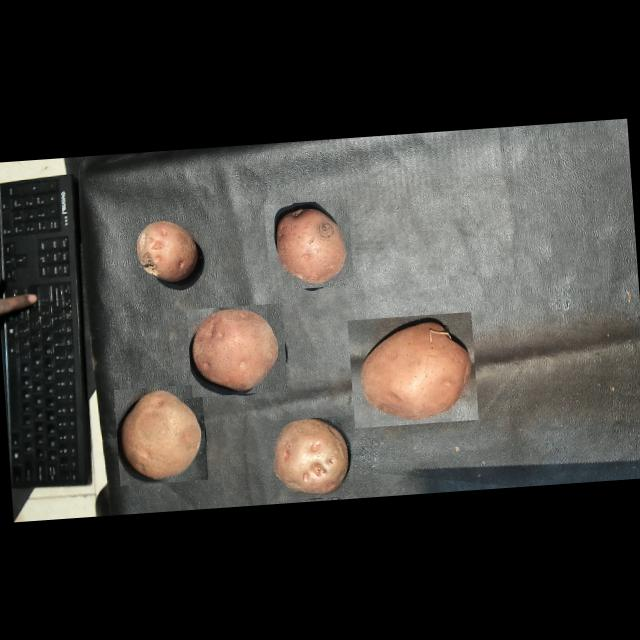Damaged potato: (130, 213, 204, 290)
Diseased-fungal potato: (347, 312, 478, 428), (114, 384, 208, 486), (186, 303, 288, 397), (264, 198, 354, 290), (265, 415, 354, 501)
